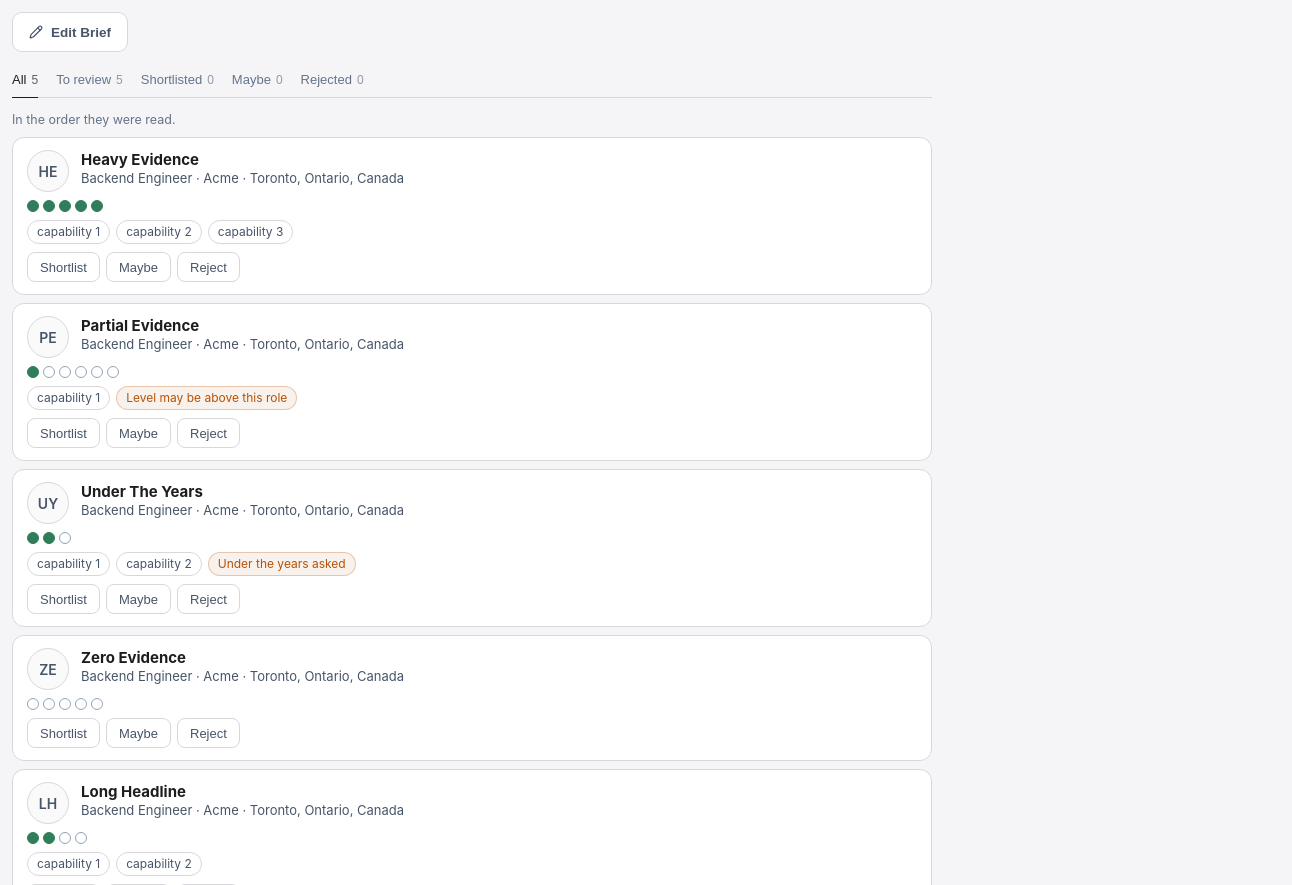
Test: decisions and filter › persist by candidate id and never move a card
Click the button "Shortlist" below "Level may be above this role" at (64, 433), box left=27, top=418, right=100, bottom=448
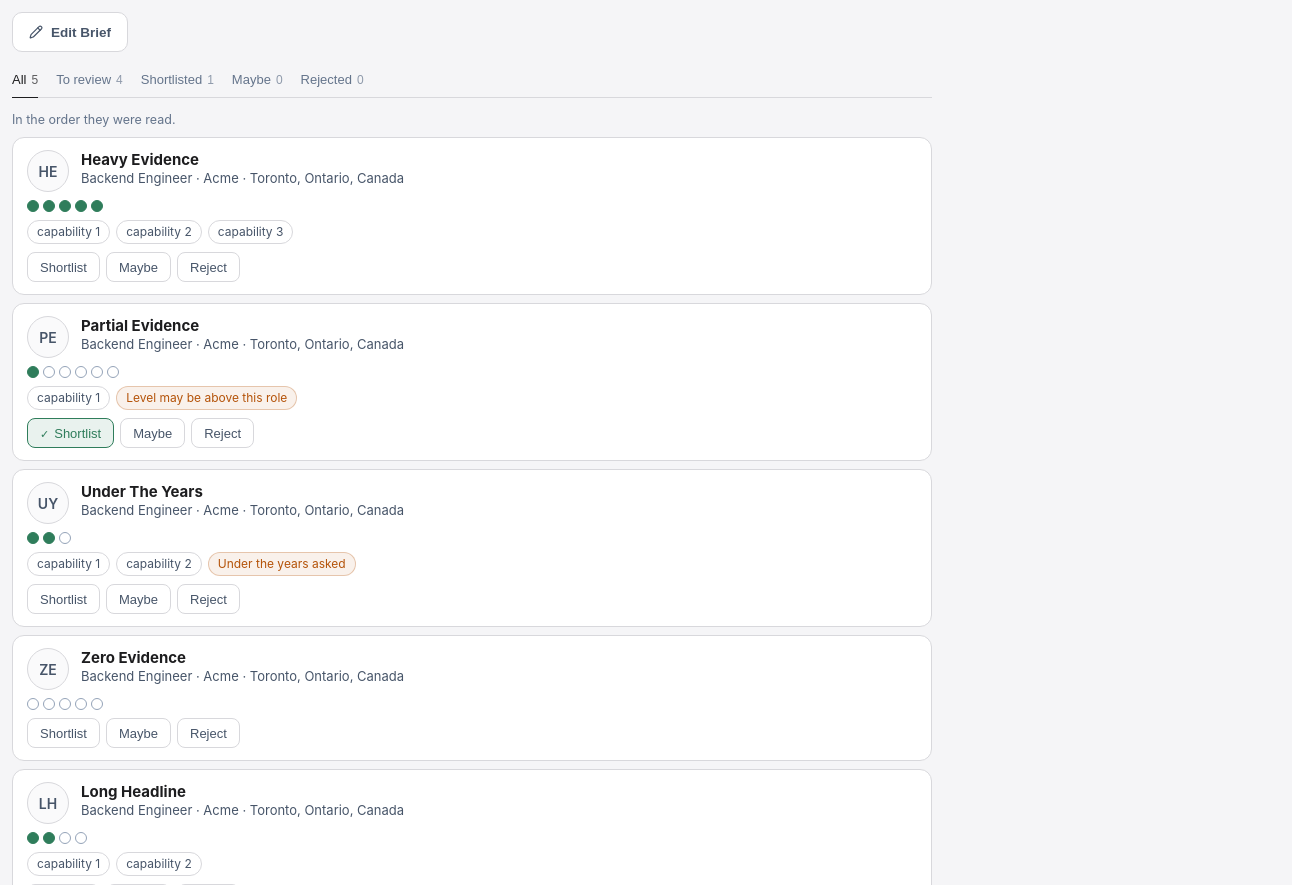
Click the button "Reject" below "capability 3" at (208, 267), box left=177, top=252, right=240, bottom=282
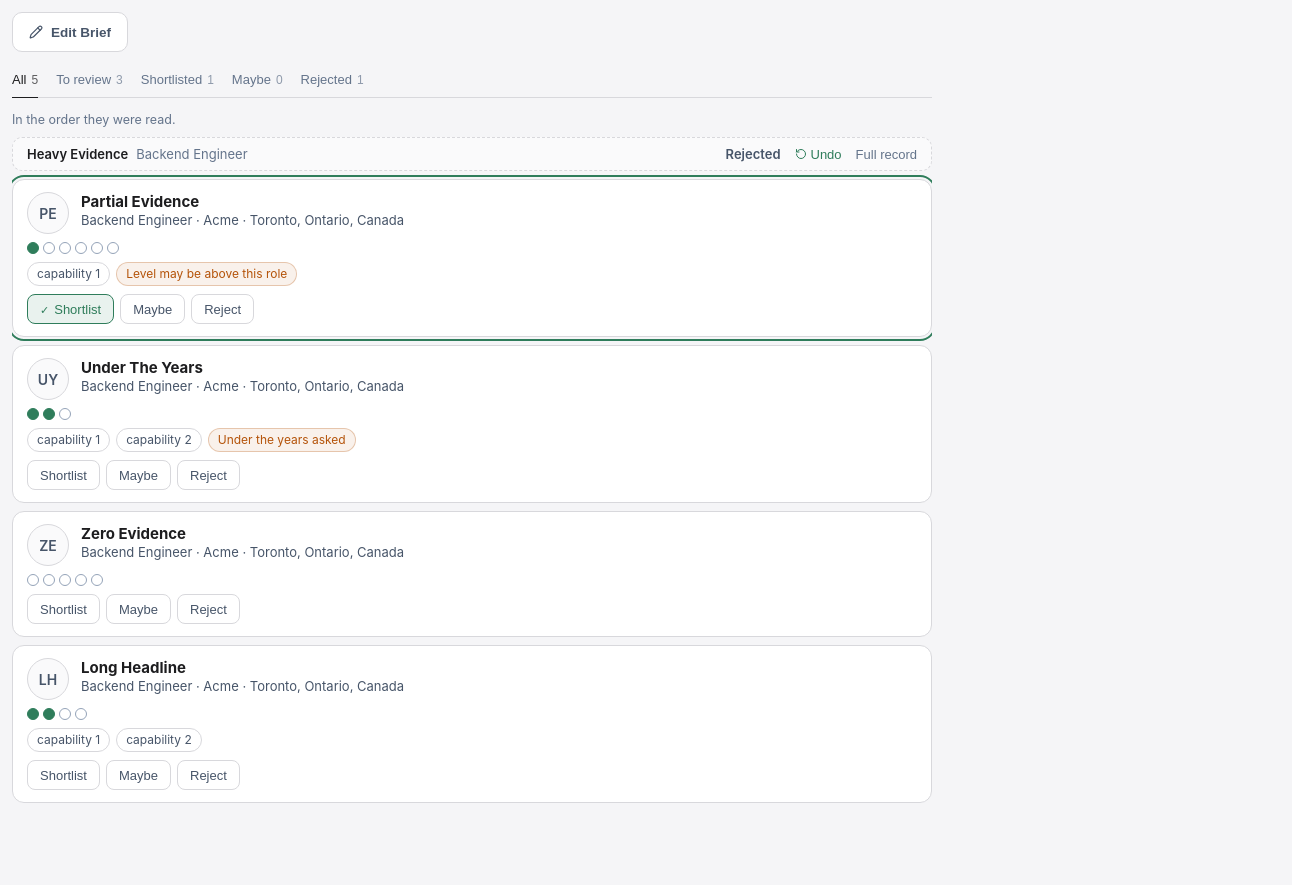
expect the element showing "Heavy Evidence Backend Engineer Rejected Undo Full record" is shown: met, box left=12, top=137, right=932, bottom=171
